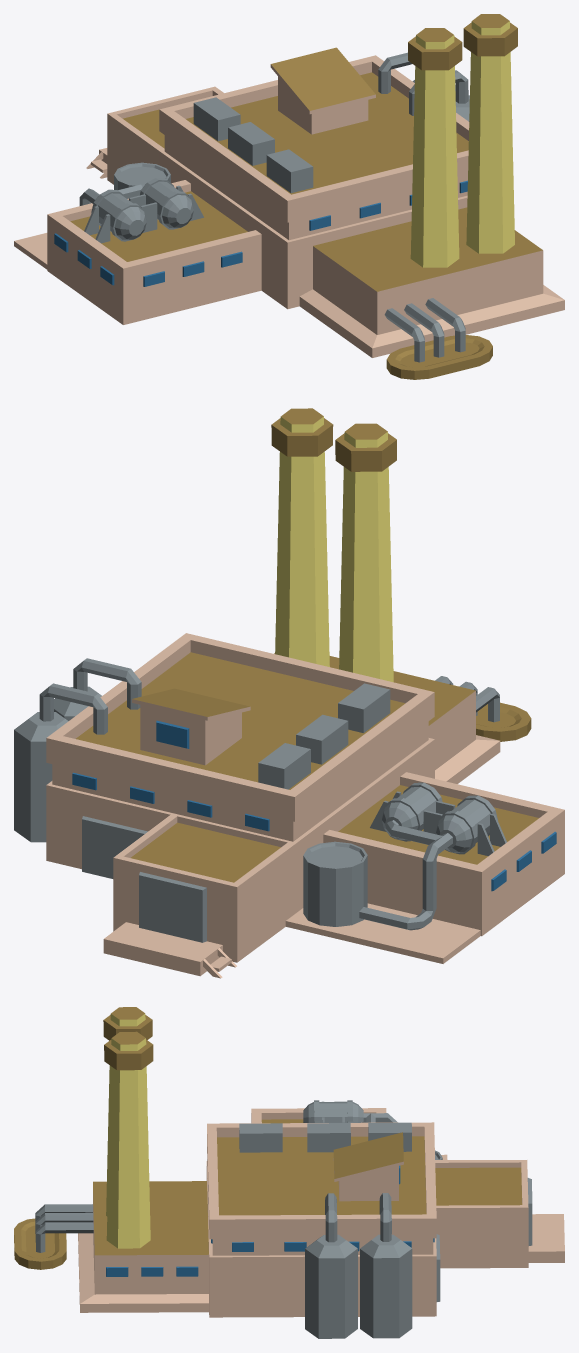
File: FactoryAir_2.fbx
3 views of the same model, one above another, from view 1: azimuth 30°, elevation 25°; view 2: azimuth 150°, elevation 25°; view 3: azimuth 270°, elevation 25° (orthographic). The views are drawn at different scales.
Parts seen in each view (by area): view 1: factory 2.001; view 2: factory 2.001; view 3: factory 2.001.
Boxes of the visible parts, x1=… form: factory 2.001: x1=14, y1=14, x2=564, y2=379; factory 2.001: x1=14, y1=408, x2=564, y2=978; factory 2.001: x1=14, y1=1007, x2=564, y2=1338.
Bounding box in the file's own units: 775 × 510 × 1003.
